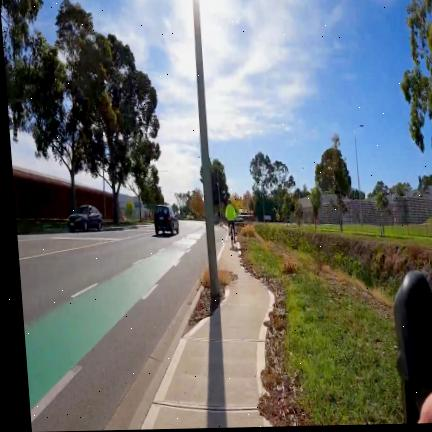Green_Bike_Lane: (24, 229, 205, 421)
